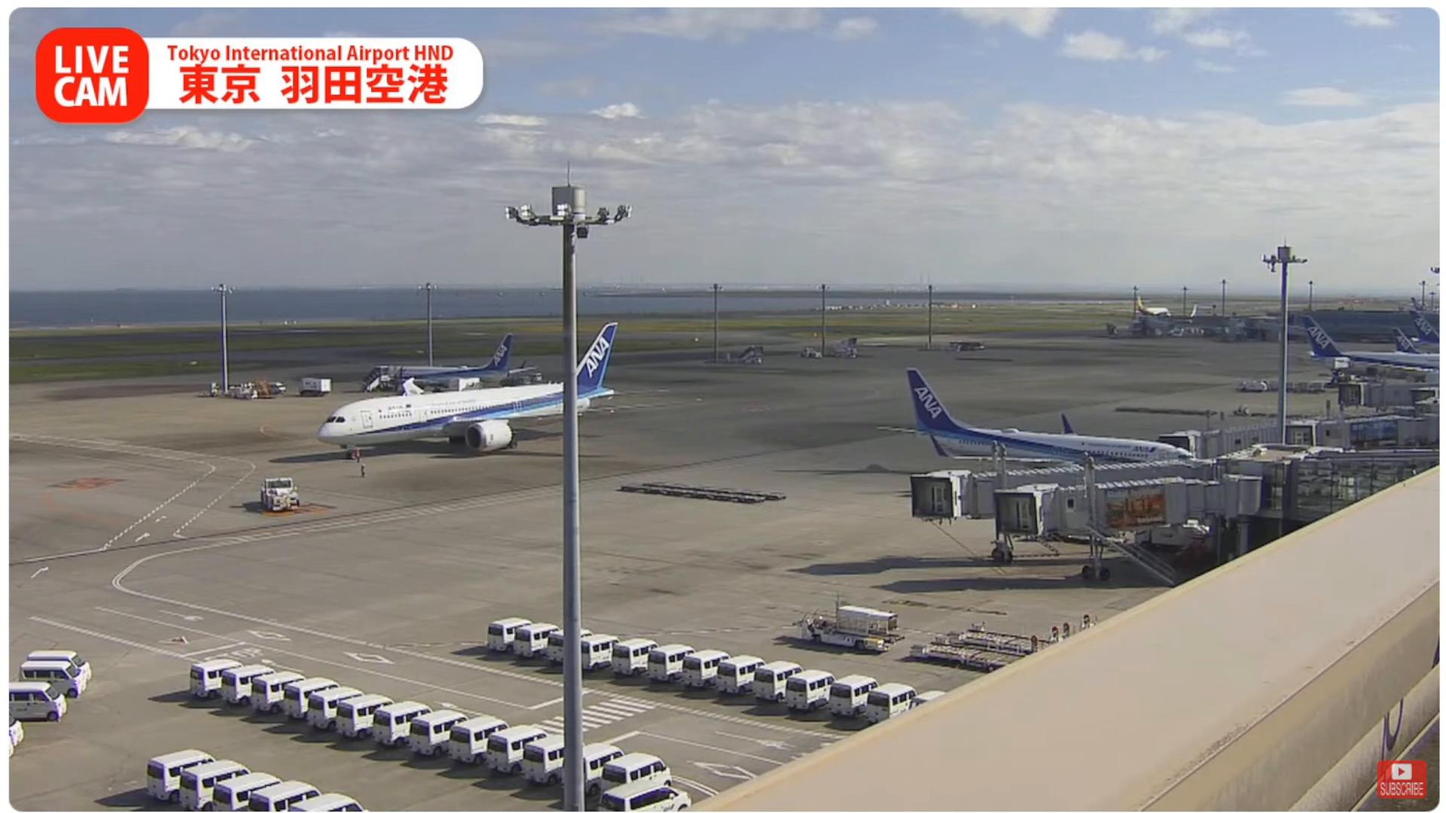APS: (260, 476, 301, 512)
Aerobridge: (911, 441, 1226, 566), (997, 449, 1259, 588)
Airplane: (318, 322, 704, 460)
Dolly: (639, 483, 786, 500), (620, 486, 766, 503)
JCPL: (912, 627, 1059, 672), (947, 614, 1090, 655)
Skyloader: (798, 604, 904, 652)
Window: (1290, 458, 1438, 523)
